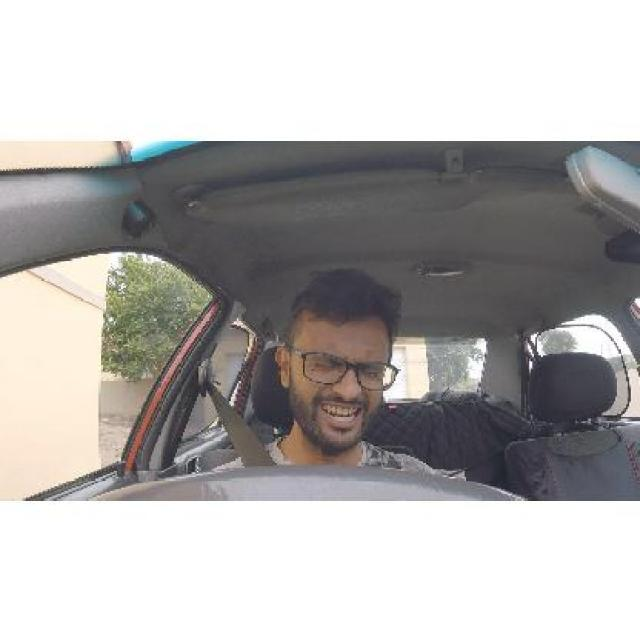drowsy: (277, 269, 408, 465)
